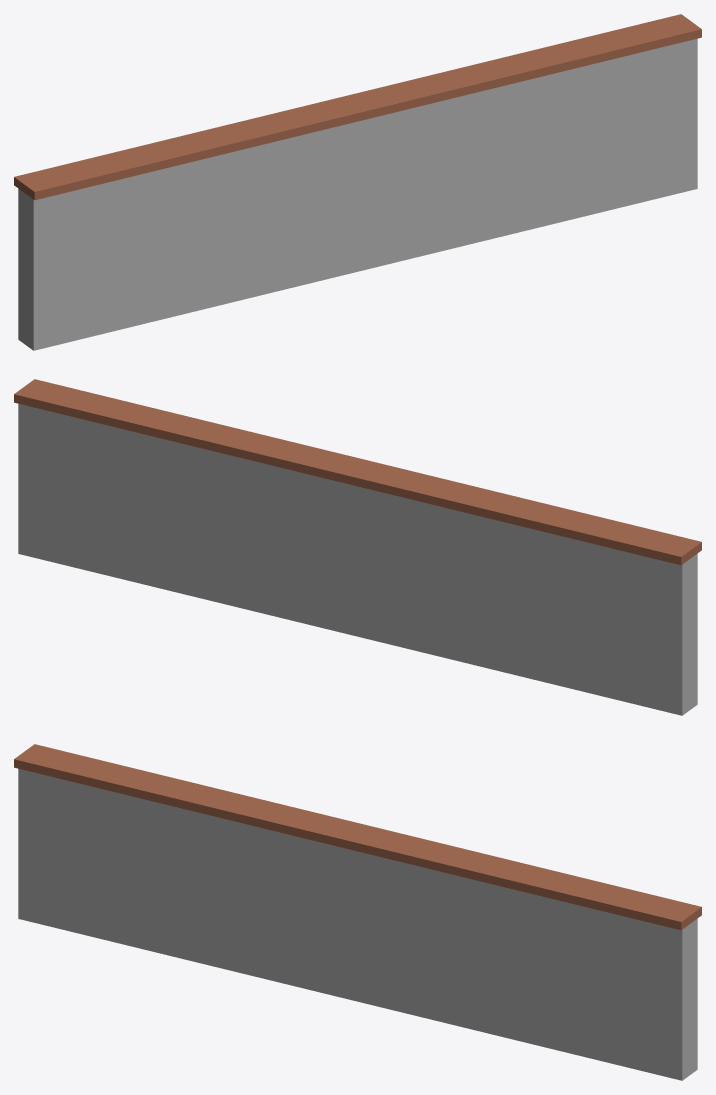
File: SM_Tapia_v0_Recto_LOD1.fbx
The picture shows the model from 3 angles, top to bottom: view 1: azimuth 30°, elevation 25°; view 2: azimuth 150°, elevation 25°; view 3: azimuth 330°, elevation 25°; orthographic projection.
Parts seen in each view (by area): view 1: SM_bloques.viveres_nules_v5_LOD1; view 2: SM_bloques.viveres_nules_v5_LOD1; view 3: SM_bloques.viveres_nules_v5_LOD1.
Part boxes in pixels (box(x1,y1,x2,y2)): SM_bloques.viveres_nules_v5_LOD1: box(14, 14, 701, 350); SM_bloques.viveres_nules_v5_LOD1: box(14, 379, 701, 715); SM_bloques.viveres_nules_v5_LOD1: box(14, 744, 701, 1080).
Size of the model in its own units: 10.05 by 2.32 by 0.54.
